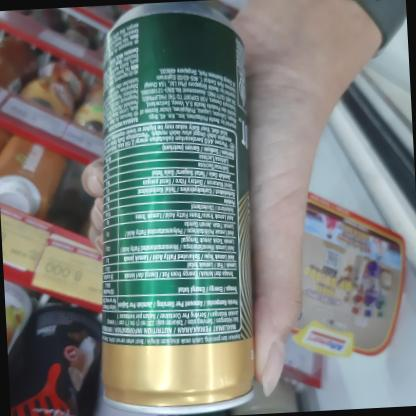alumunium_can: (78, 0, 271, 416)
